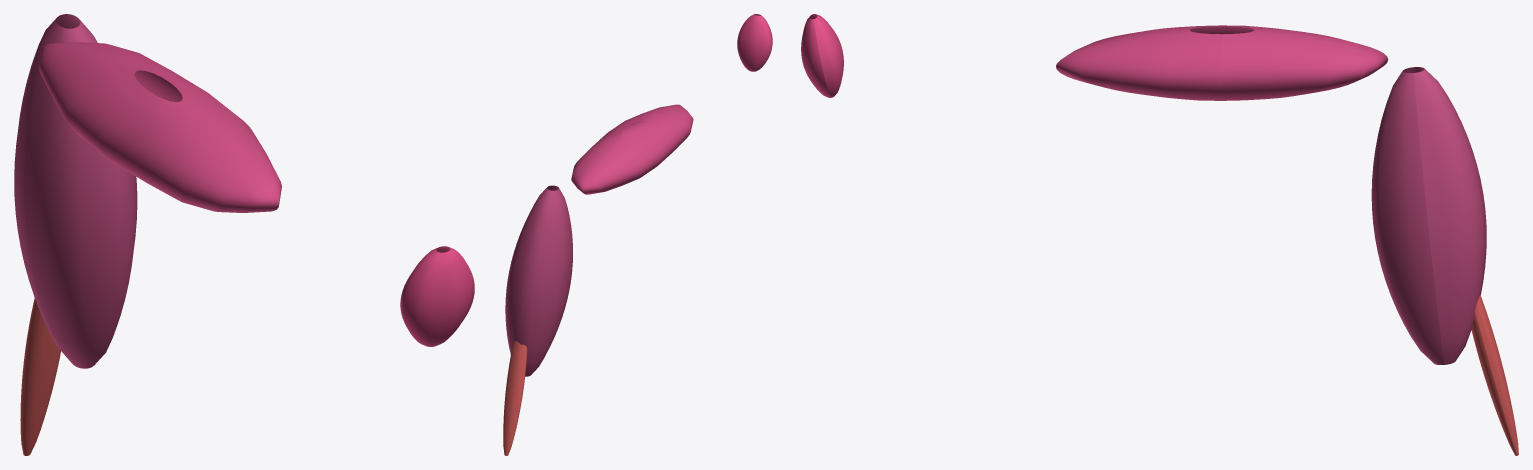
File: muscular.glb
3 views of the same model, side by side, from view 1: azimuth 30°, elevation 25°; view 2: azimuth 150°, elevation 25°; view 3: azimuth 270°, elevation 25° (orthographic). The views are drawn at different scales.
Visible parts, largest first — view 1: Mesh_Ovine_Gluteobiceps, Mesh_Ovine_LongissimusDorsi, Mesh_Ovine_Masseter, Mesh_Ovine_Gastrocnemius; view 2: Mesh_Ovine_Gluteobiceps, Mesh_Ovine_LongissimusDorsi, Mesh_Ovine_Gastrocnemius, Mesh_Ovine_Masseter; view 3: Mesh_Ovine_Gluteobiceps, Mesh_Ovine_LongissimusDorsi, Mesh_Ovine_Gastrocnemius, Mesh_Ovine_Masseter.
Boxes of the visible parts, x1,y1,x2,y2 form: Mesh_Ovine_Gluteobiceps: (14, 14, 137, 368); Mesh_Ovine_LongissimusDorsi: (39, 42, 281, 212); Mesh_Ovine_Masseter: (400, 246, 474, 346); Mesh_Ovine_Gastrocnemius: (20, 298, 60, 455); Mesh_Ovine_Gluteobiceps: (505, 185, 572, 376); Mesh_Ovine_LongissimusDorsi: (571, 104, 693, 194); Mesh_Ovine_Gastrocnemius: (503, 341, 527, 455); Mesh_Ovine_Masseter: (737, 14, 772, 71); Mesh_Ovine_Gluteobiceps: (1371, 67, 1486, 364); Mesh_Ovine_LongissimusDorsi: (1056, 25, 1388, 100); Mesh_Ovine_Gastrocnemius: (1471, 295, 1518, 455); Mesh_Ovine_Masseter: (801, 14, 843, 97).
Bounding box in the file's own units: 0.1922 × 0.6317 × 0.9701.
